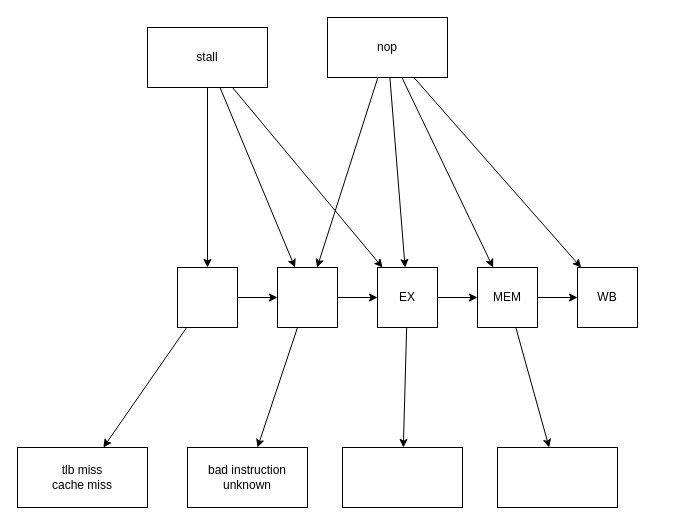
The diagram is 675 pixels wide and 525 high, and some of its shapes have lost their labels. Here are the shapes that lost their labels. From the top down, the box of each, then its label:
(176, 266, 238, 328): IF
(276, 266, 338, 328): DE
(496, 446, 618, 508): tlb miss cache miss mem buff full
